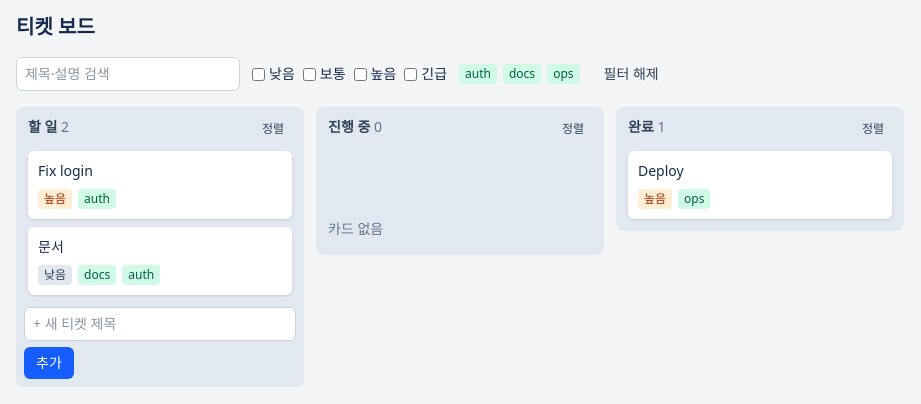
Test: 필터 바 (UI-C09) › TC-UI-018: 검색어를 입력하면 q 쿼리로 조회해 결과만 표시한다
Expected: the text "Fix login" is shown, [38,161,93,181]
Type "login" into the search field named "검색어" at (128, 74), box [16,57,240,91]
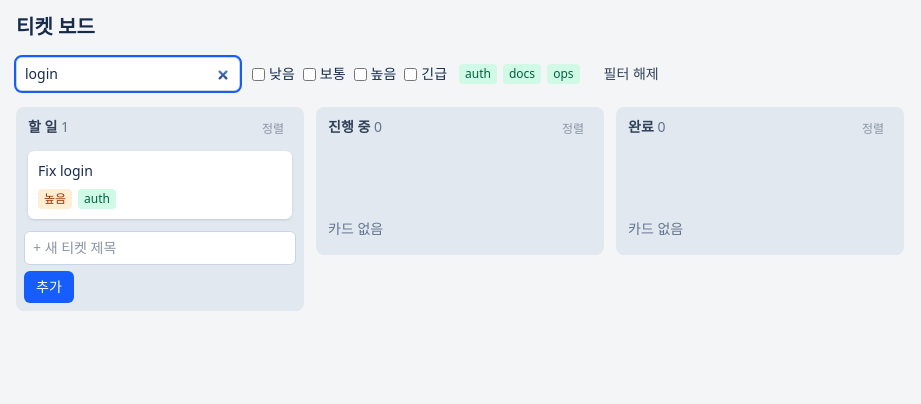
Expected: the text "Fix login" is shown, [38,161,93,181]
Expected: the button "문서" is gone
